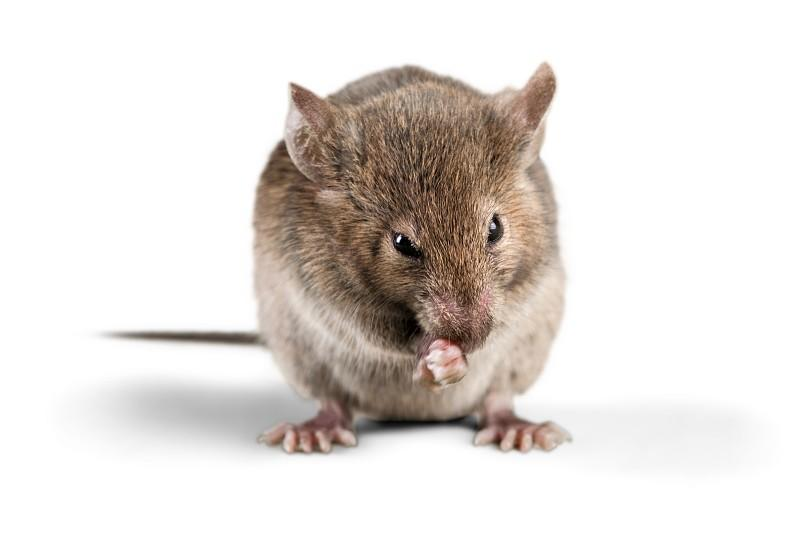rat: (214, 16, 589, 469)
